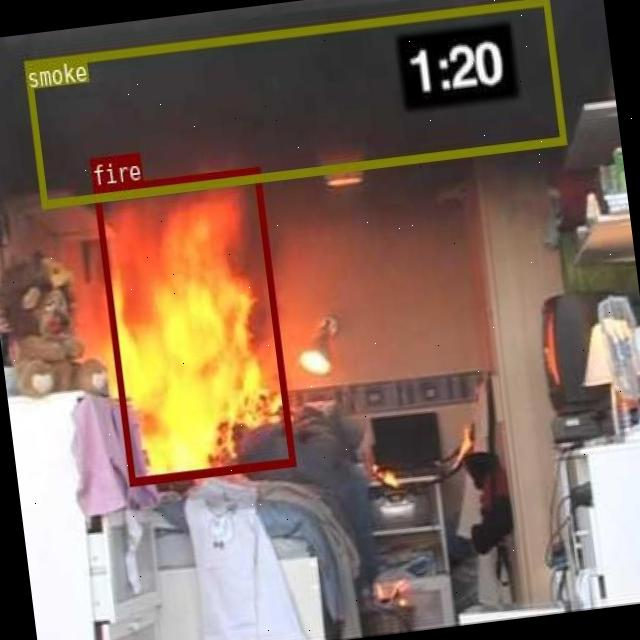fire: (92, 166, 293, 484)
smoke: (22, 0, 564, 206)
